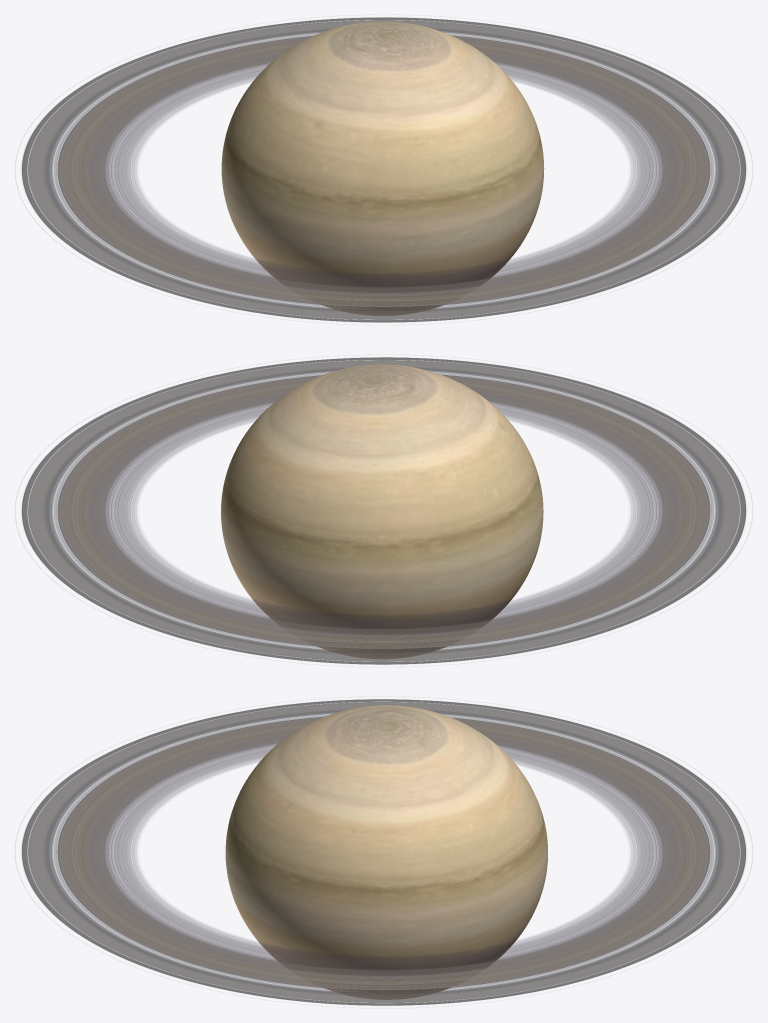
Rendered from Saturn.glb.
3 views of the same model, one above another, from view 1: azimuth 30°, elevation 25°; view 2: azimuth 150°, elevation 25°; view 3: azimuth 270°, elevation 25° (orthographic).
Bounding box in the file's own units: 935 × 364 × 935.
2 materials, 2 textured.
